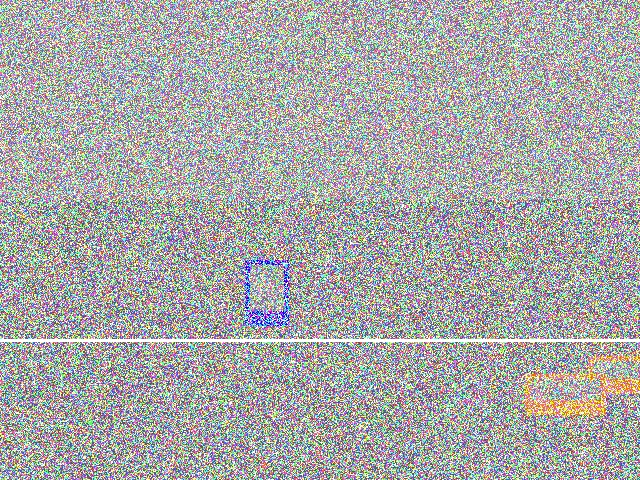car: (35, 335, 103, 408)
truck: (46, 271, 234, 328), (428, 362, 494, 480)
